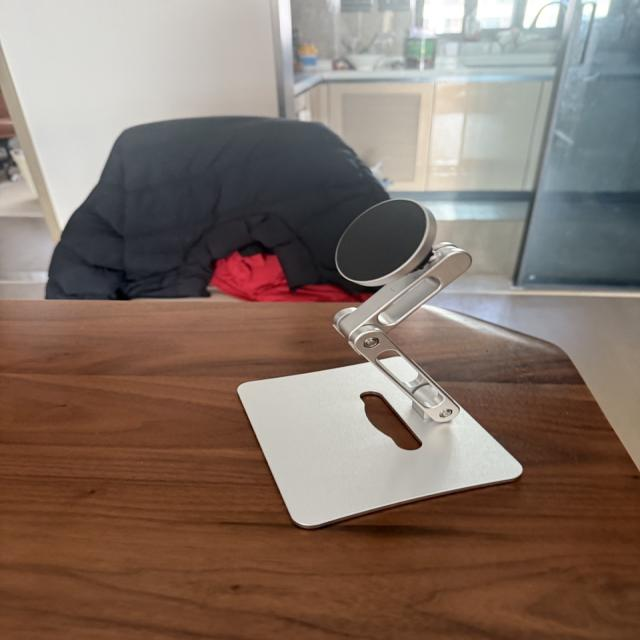phone holder: (216, 186, 527, 532)
